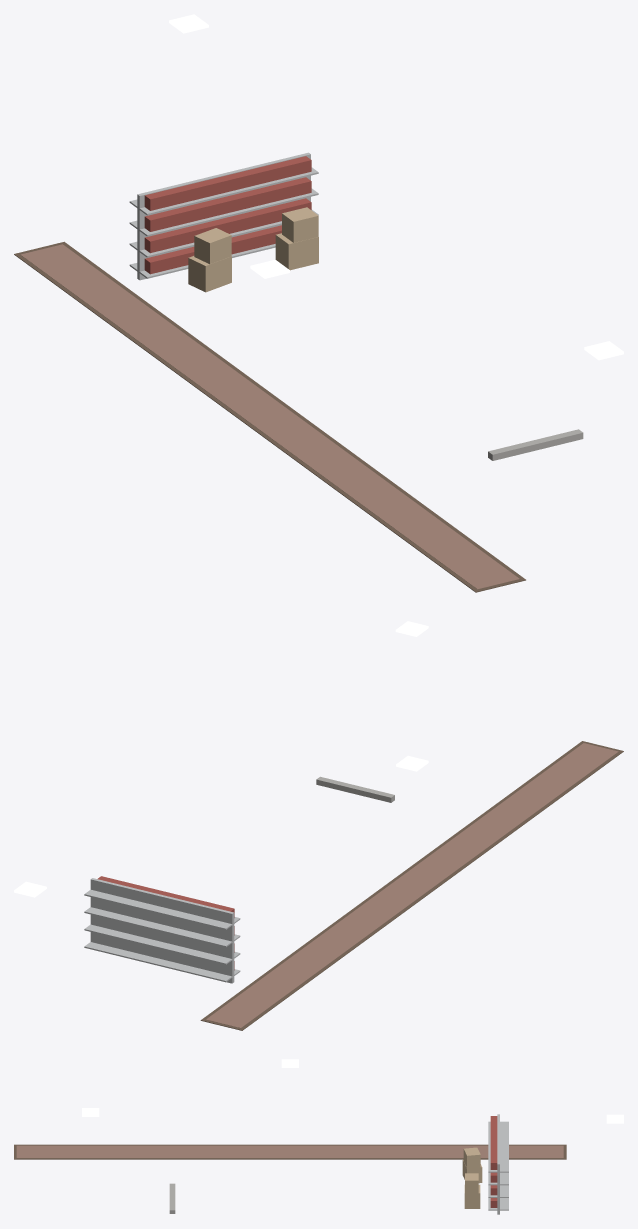
Rendered from fine-s0.glb.
3 renders of one model, top to bottom at view 1: azimuth 30°, elevation 25°; view 2: azimuth 150°, elevation 25°; view 3: azimuth 270°, elevation 25°, orthographic. The views are drawn at different scales.
Visible parts, largest first — view 1: soft-s0, shelving.000, shelving.001, cardboard-box.000, crate.000; view 2: soft-s0, shelving.000, shelving.001; view 3: soft-s0, shelving.001, crate.000, cardboard-box.000, shelving.000.
Boxes of the visible parts, x1,y1,x2,y2 form: soft-s0: [14, 241, 583, 592]; shelving.000: [129, 172, 237, 280]; shelving.001: [222, 152, 318, 257]; cardboard-box.000: [188, 228, 231, 292]; crate.000: [275, 207, 318, 270]; soft-s0: [200, 741, 623, 1030]; shelving.000: [151, 892, 240, 983]; shelving.001: [84, 876, 167, 965]; soft-s0: [14, 1144, 566, 1213]; shelving.001: [488, 1137, 508, 1214]; crate.000: [464, 1173, 480, 1208]; cardboard-box.000: [462, 1147, 482, 1183]; shelving.000: [488, 1114, 508, 1145].
Size of the model in its own units: 4.75 by 2.83 by 17.52.
